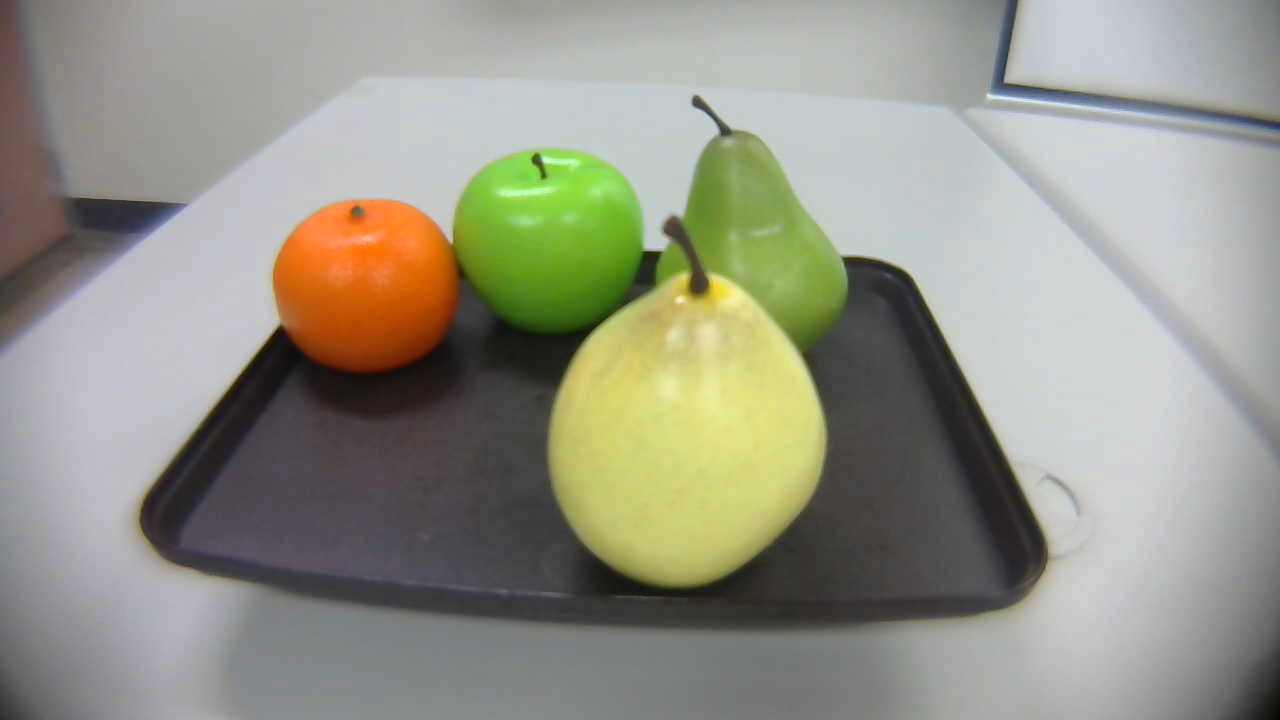green apple: (453, 148, 657, 346)
green pear: (653, 84, 868, 358)
orange: (262, 201, 460, 376)
western pear: (535, 218, 843, 609)
